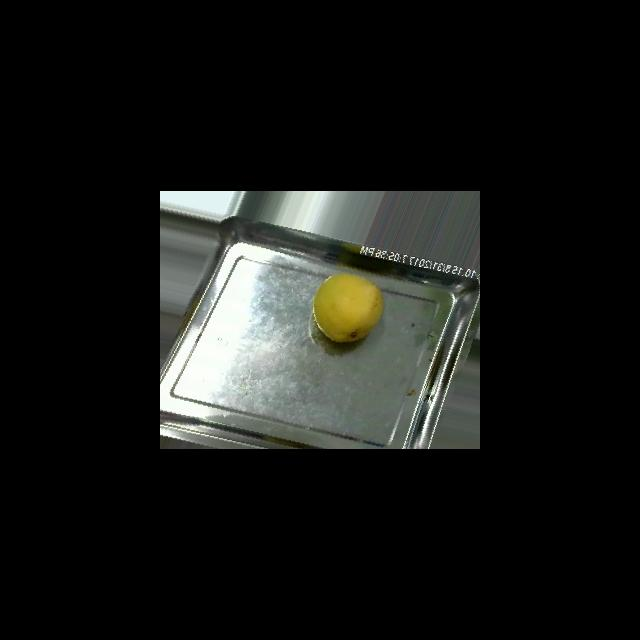Mango: (312, 272, 384, 343)
